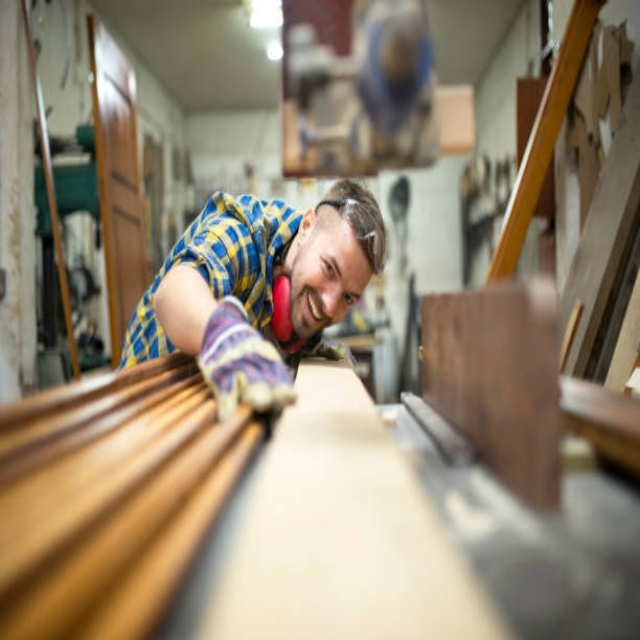Guantes: (196, 296, 299, 423)
Sin_gafas: (310, 235, 360, 315)
Sin_mascara: (295, 281, 325, 336)
